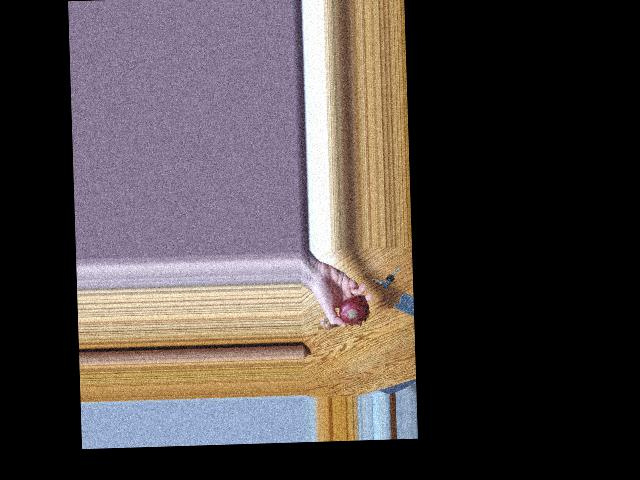onion: (314, 310, 333, 330)
